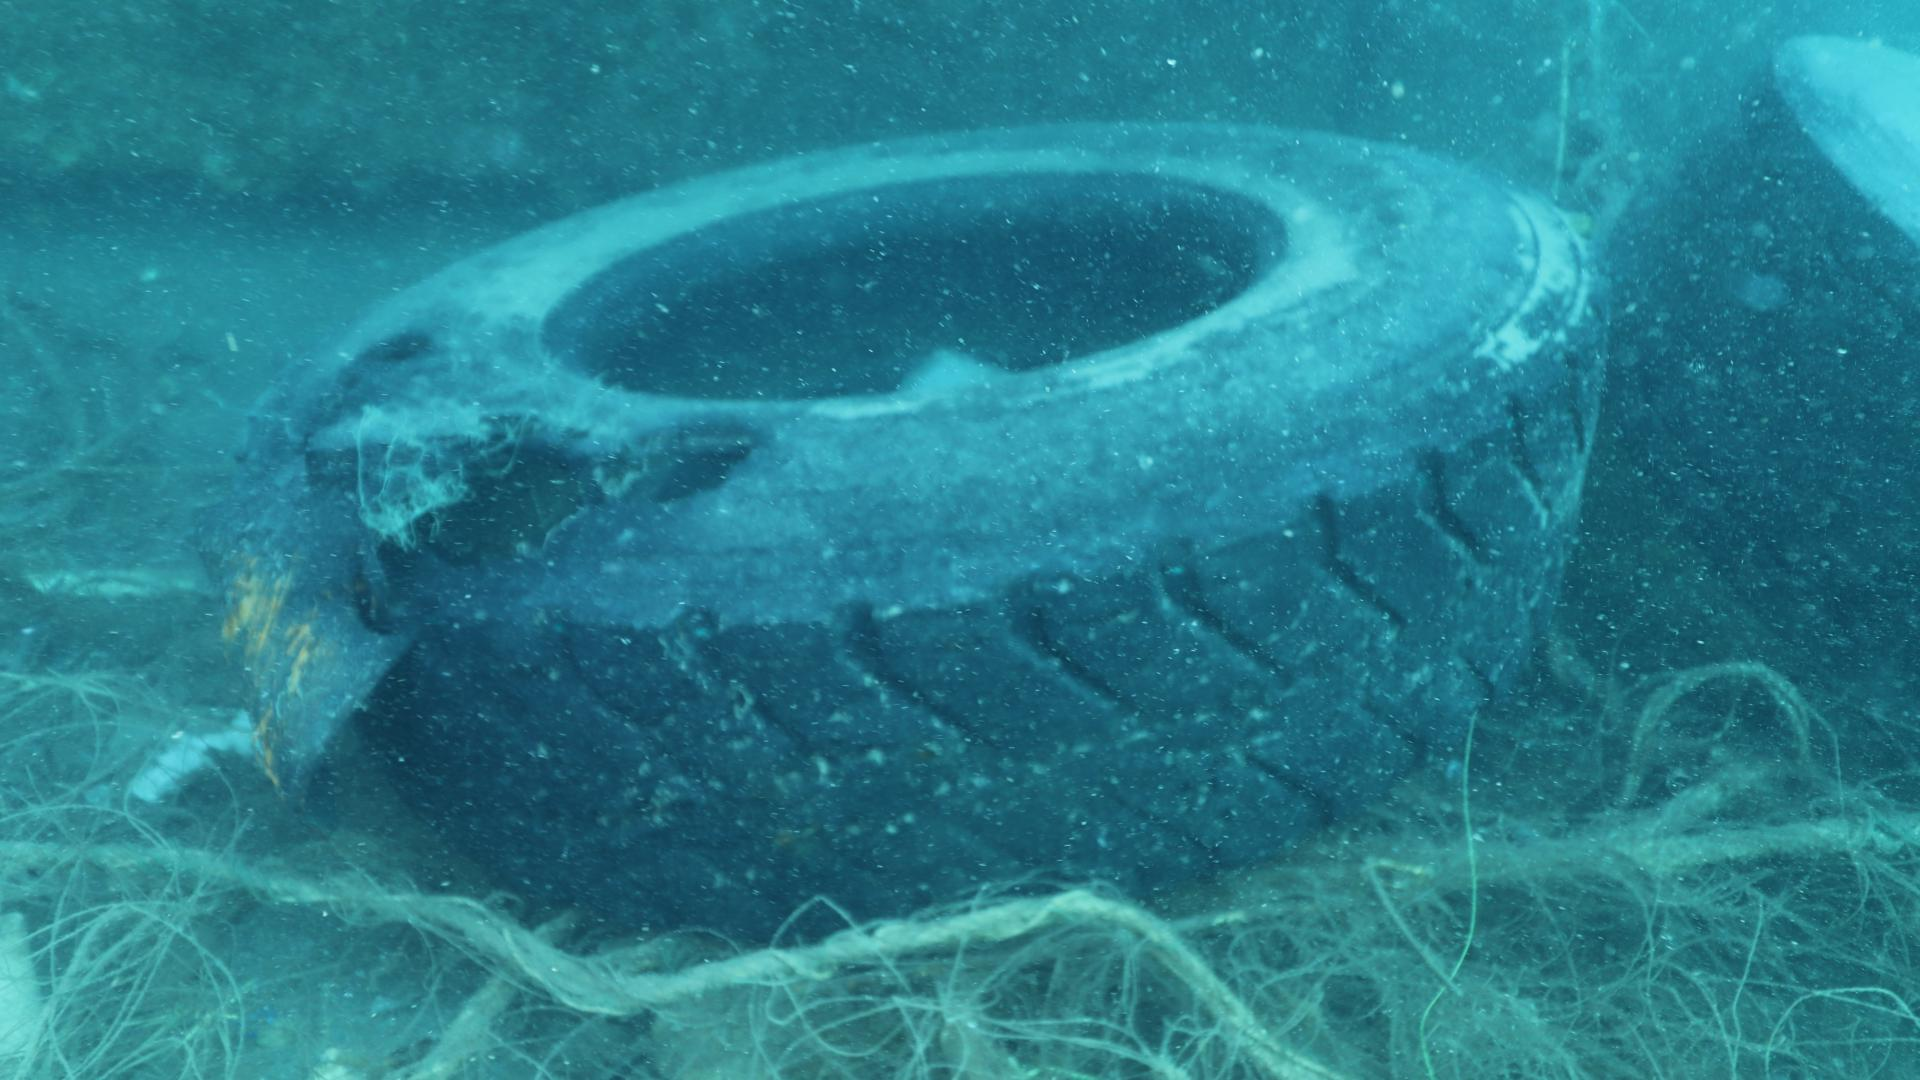bundle of ropes: (1404, 613, 1920, 891)
rope: (0, 833, 1353, 1080)
tire: (295, 115, 1602, 942)
